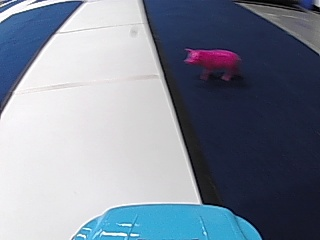pig: (183, 43, 240, 82)
